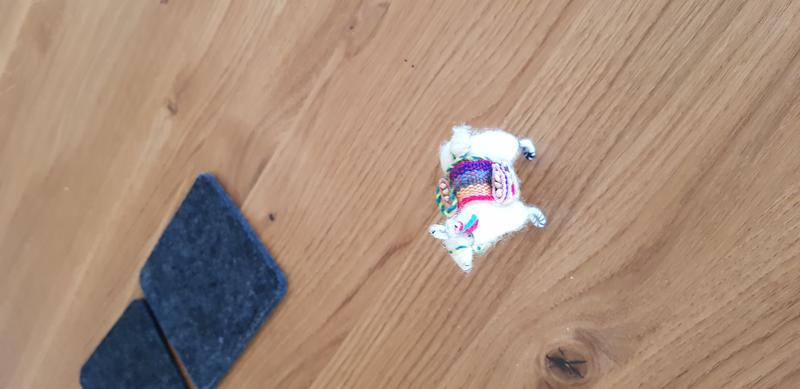Horse-Toy: (416, 120, 569, 289)
